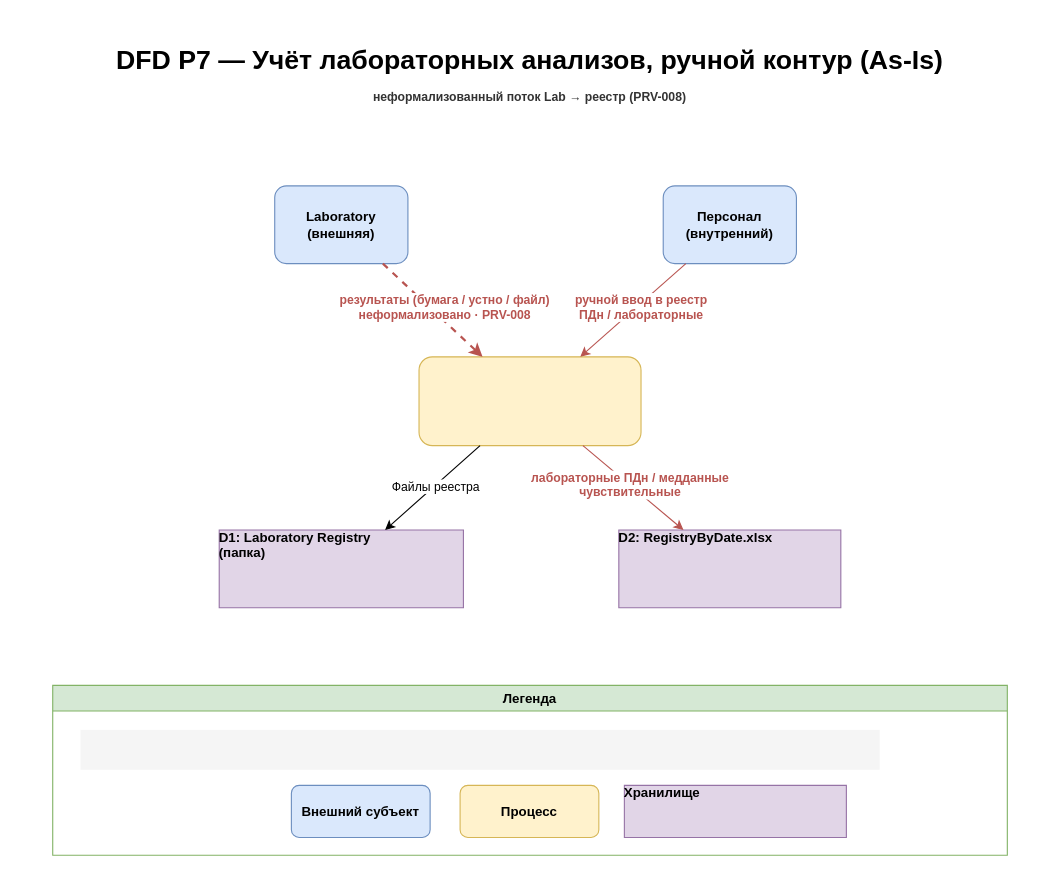
The diagram is 1059 pixels wide and 875 high, and some of its shapes have lost their labels. The centre of each missing label's shape, as x and y in pixels:
7.0 Учёт результатов анализов: [529,401]
Легенда: Красный — ПДн; пунктир — без маскирования на папке.: [479,749]
